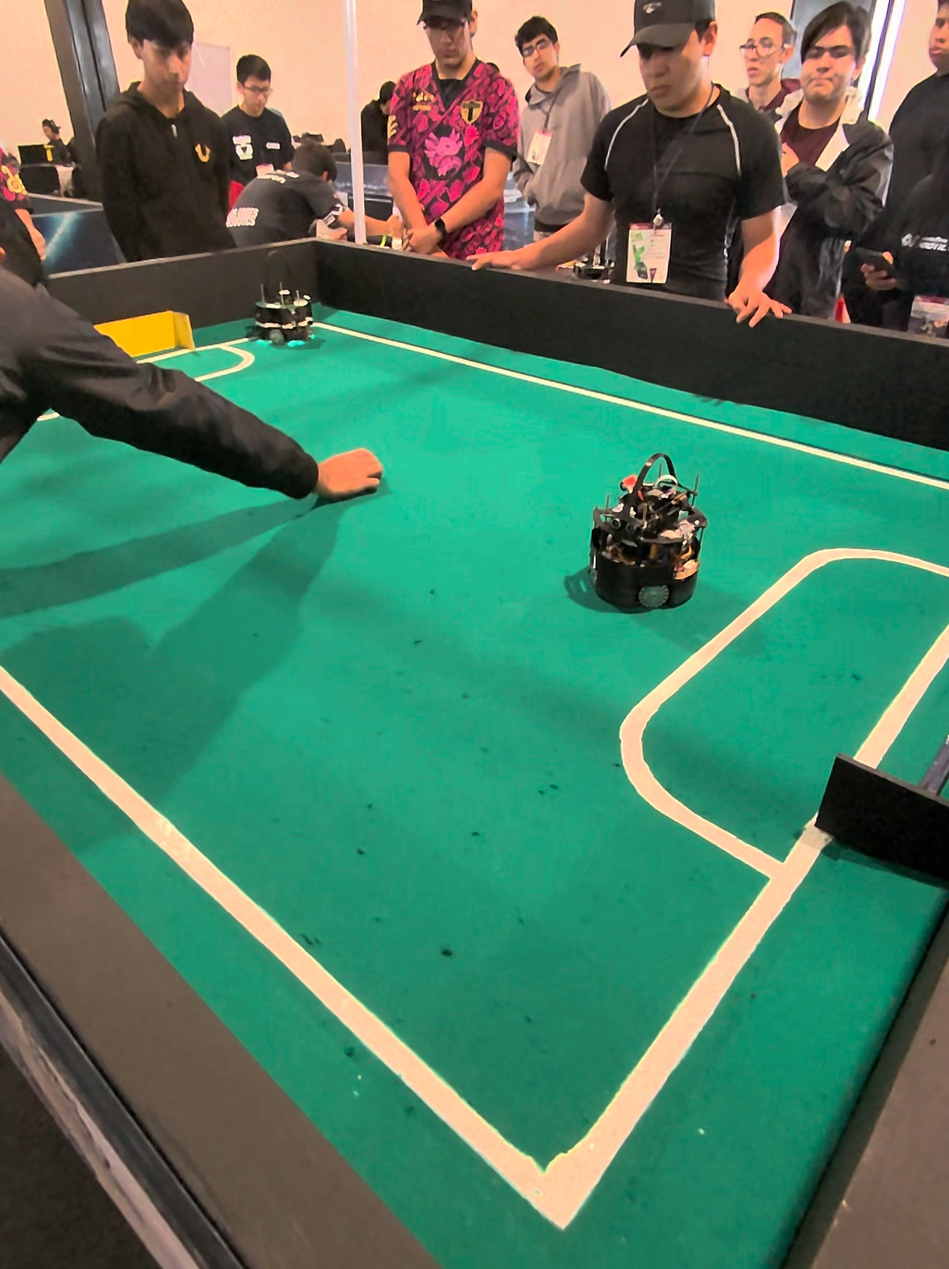Robot: (585, 455, 710, 623), (242, 241, 316, 350)
